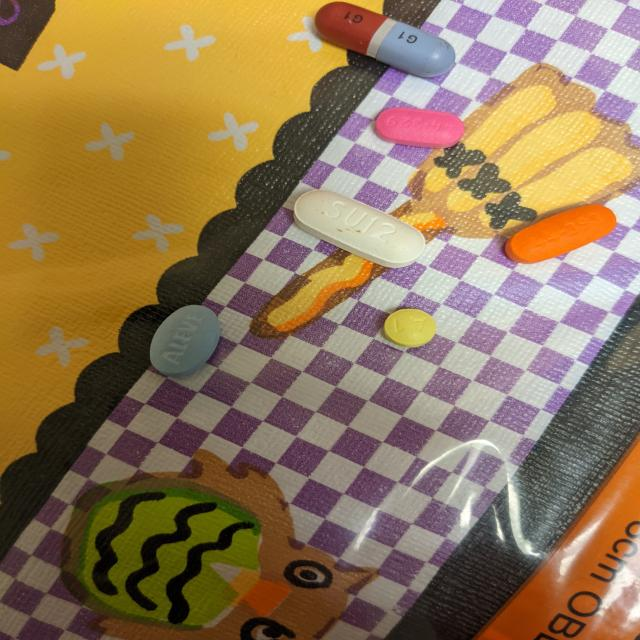non-organic waste: (313, 0, 457, 80), (292, 189, 427, 269), (503, 203, 618, 266), (148, 304, 222, 378), (374, 106, 465, 150), (382, 308, 438, 348)
